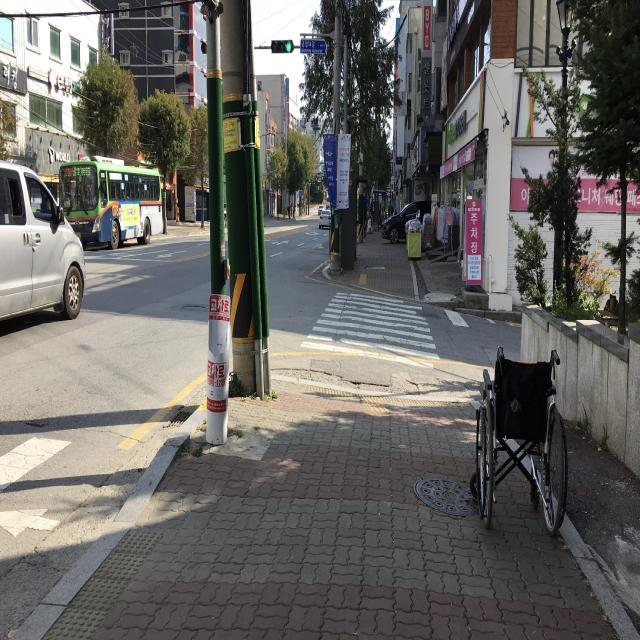횡단보도: (300, 292, 441, 360)
